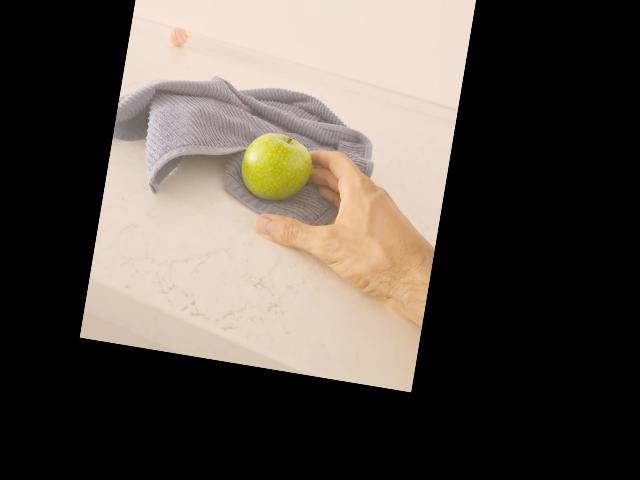apple: (240, 128, 315, 208)
